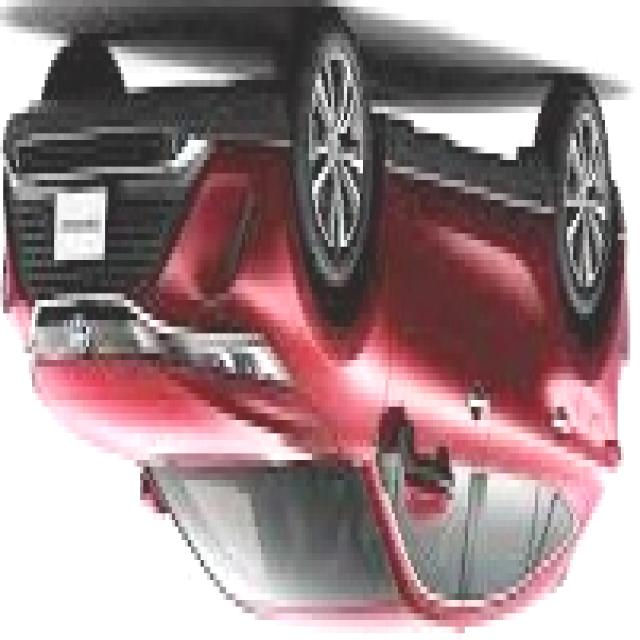maroon: (6, 89, 640, 640)
